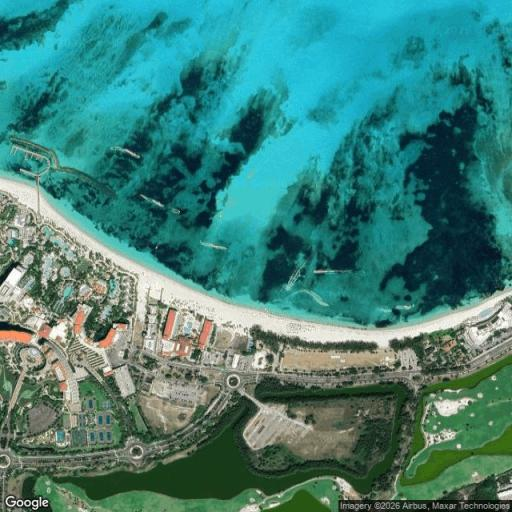ship: (300, 289, 328, 306), (286, 264, 304, 290), (111, 146, 139, 159), (140, 194, 163, 207), (200, 241, 226, 250), (314, 269, 358, 274), (314, 269, 349, 273), (248, 168, 255, 179), (377, 307, 391, 312), (396, 305, 413, 309), (172, 208, 180, 214)
